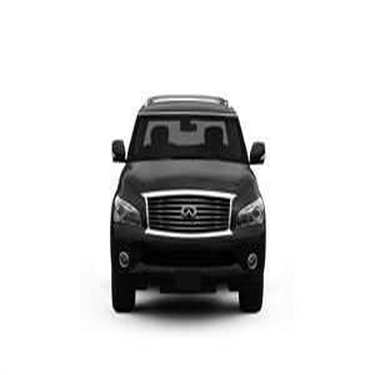car: (101, 88, 270, 317)
